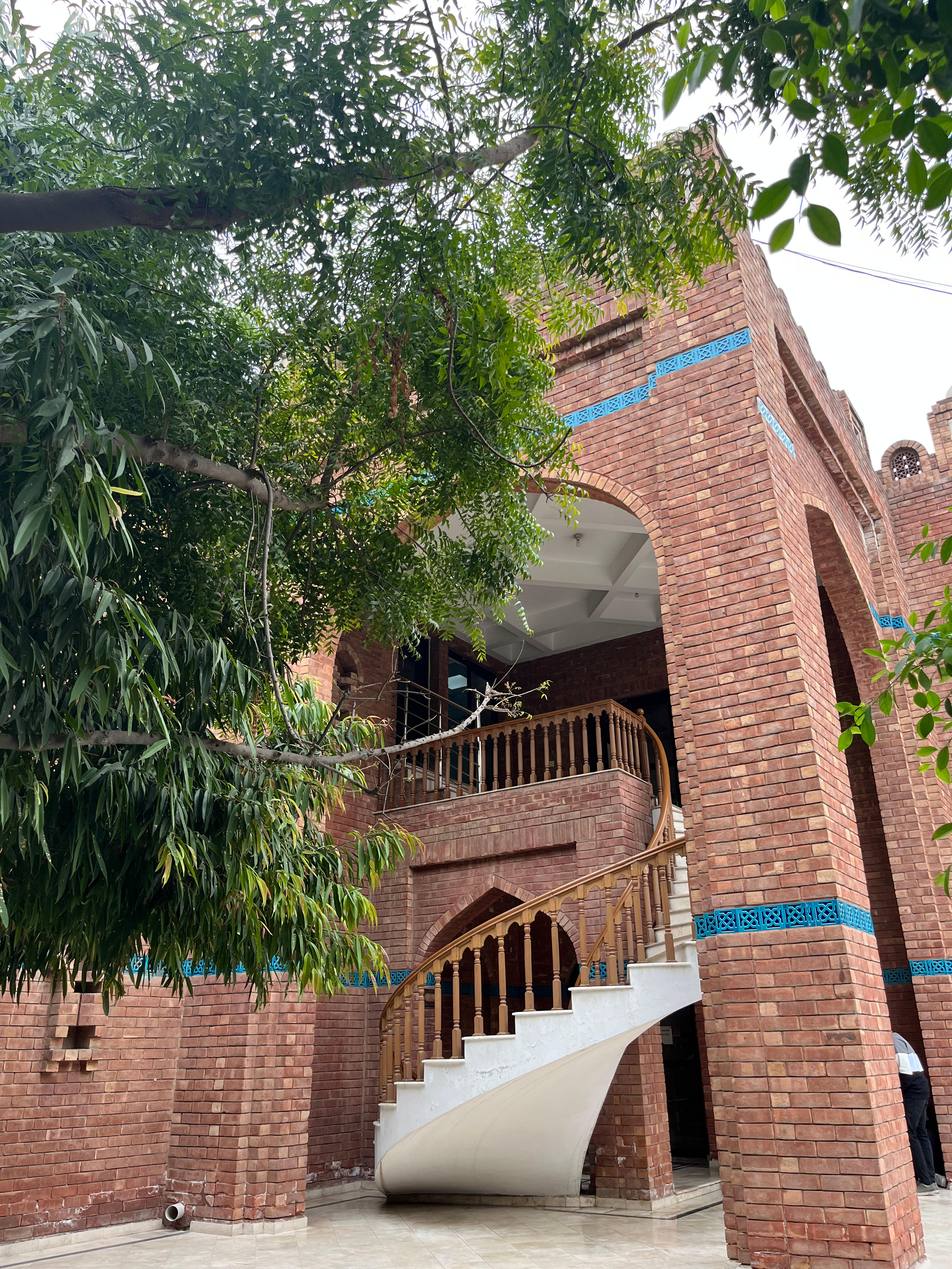Block E: (7, 139, 952, 1269)
